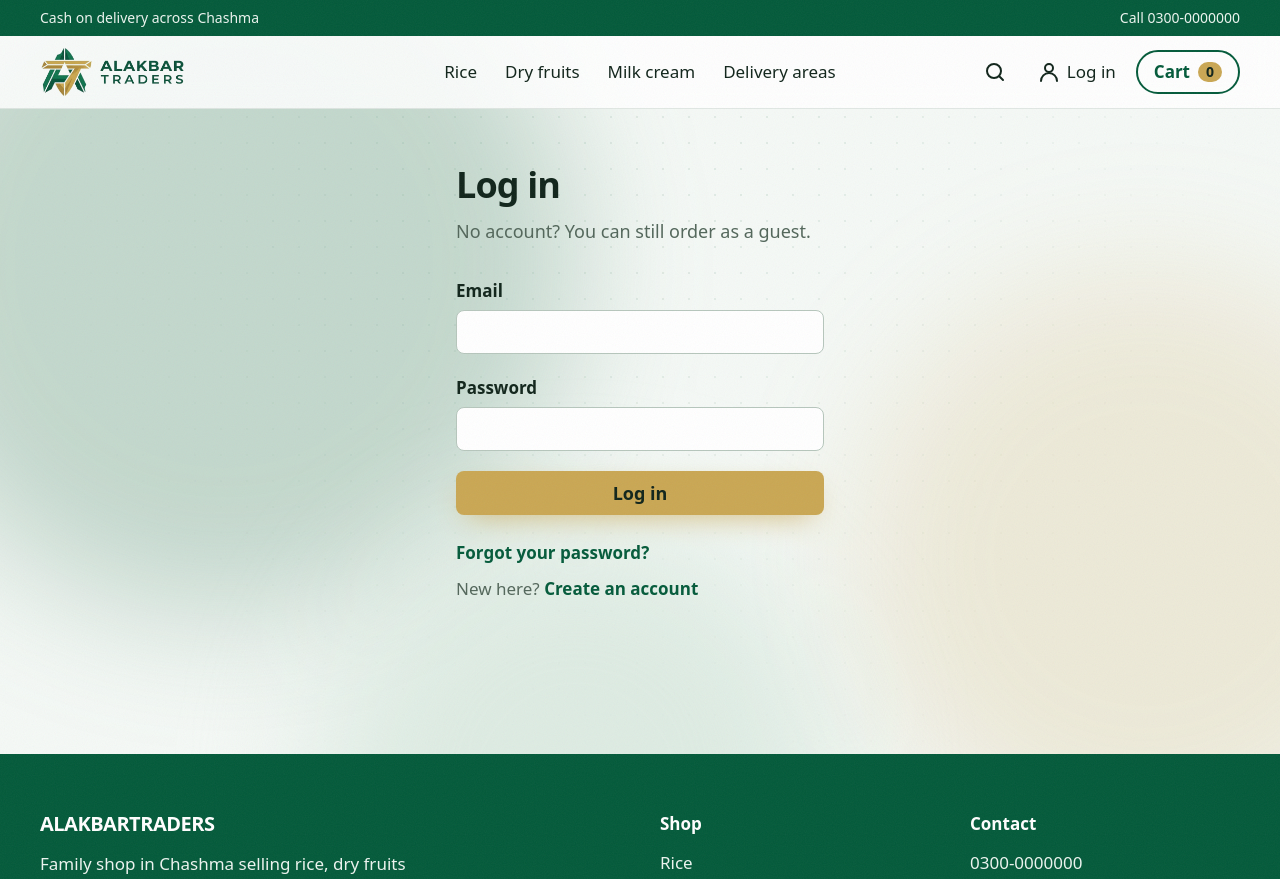
login page › shows the error for a wrong password and stays on the page
The width and height of the screenshot is (1280, 879).
Type "ali@example.com" into the field labelled "Email" at (640, 332), box top-left (456, 310), bottom-right (824, 354)
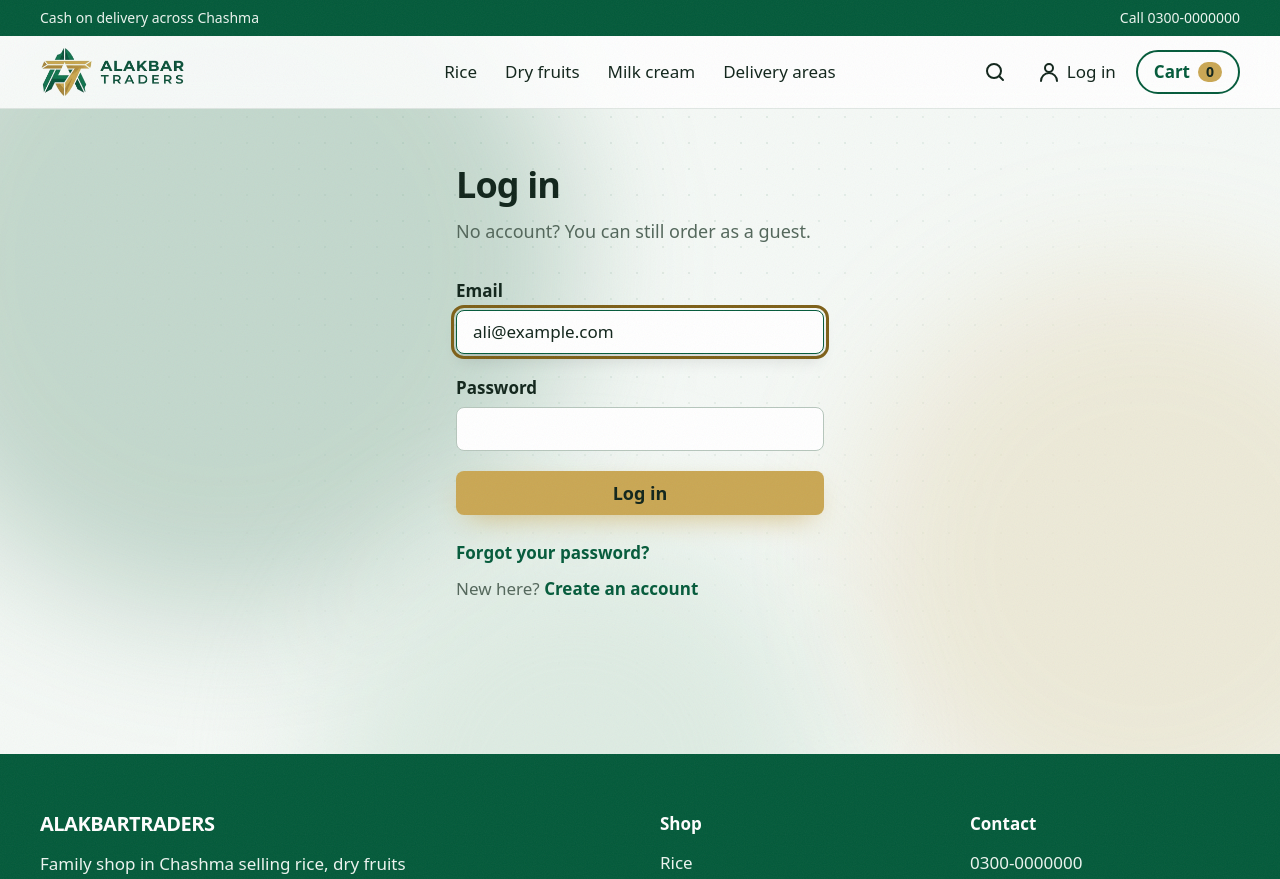
Type "wrong" into the password field labelled "Password" at (640, 429), box top-left (456, 407), bottom-right (824, 451)
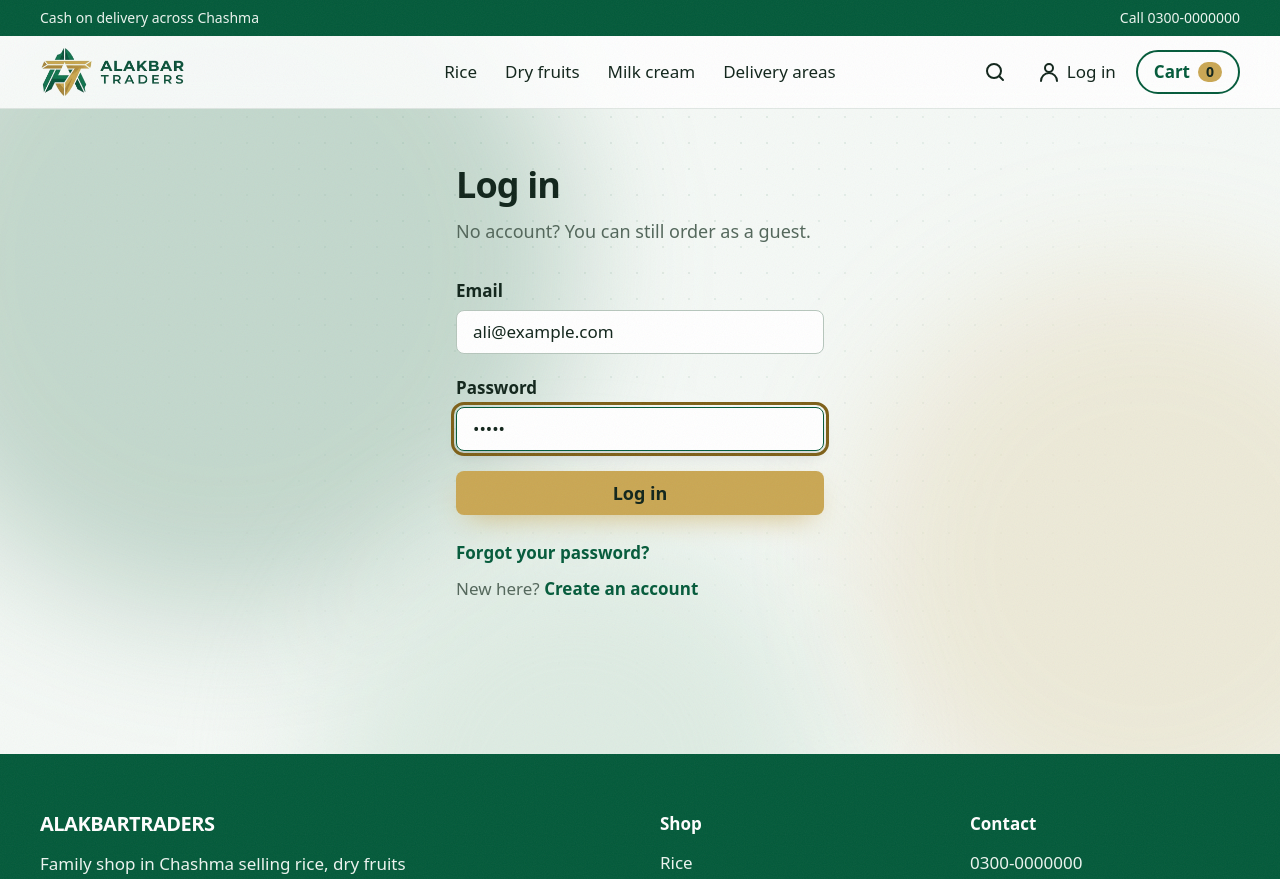
Click the button "Log in" at (640, 493), box top-left (456, 471), bottom-right (824, 515)
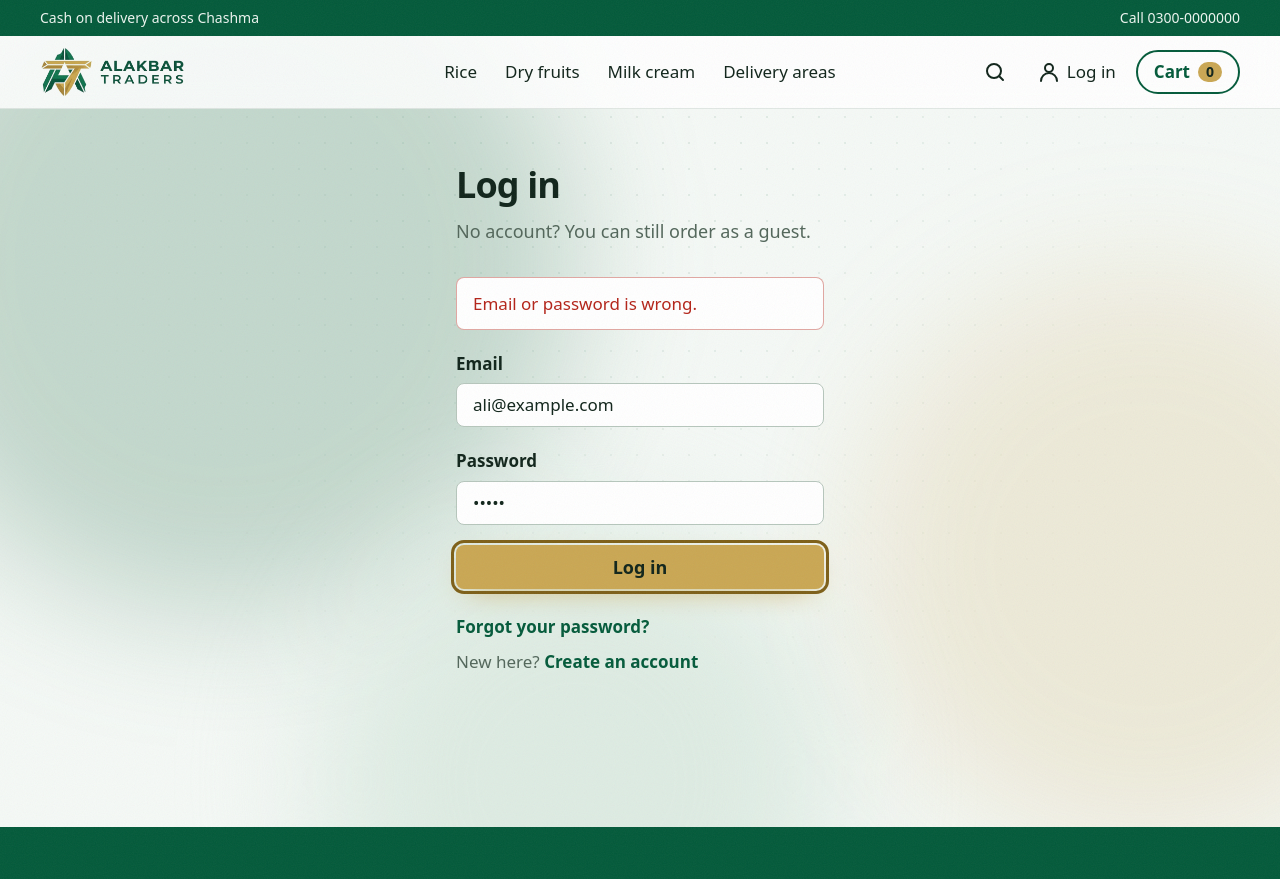
expect the message reads "Email or password is wrong.": met, box top-left (473, 292), bottom-right (697, 315)
